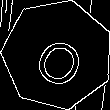O_NE: (26, 22, 89, 87)
